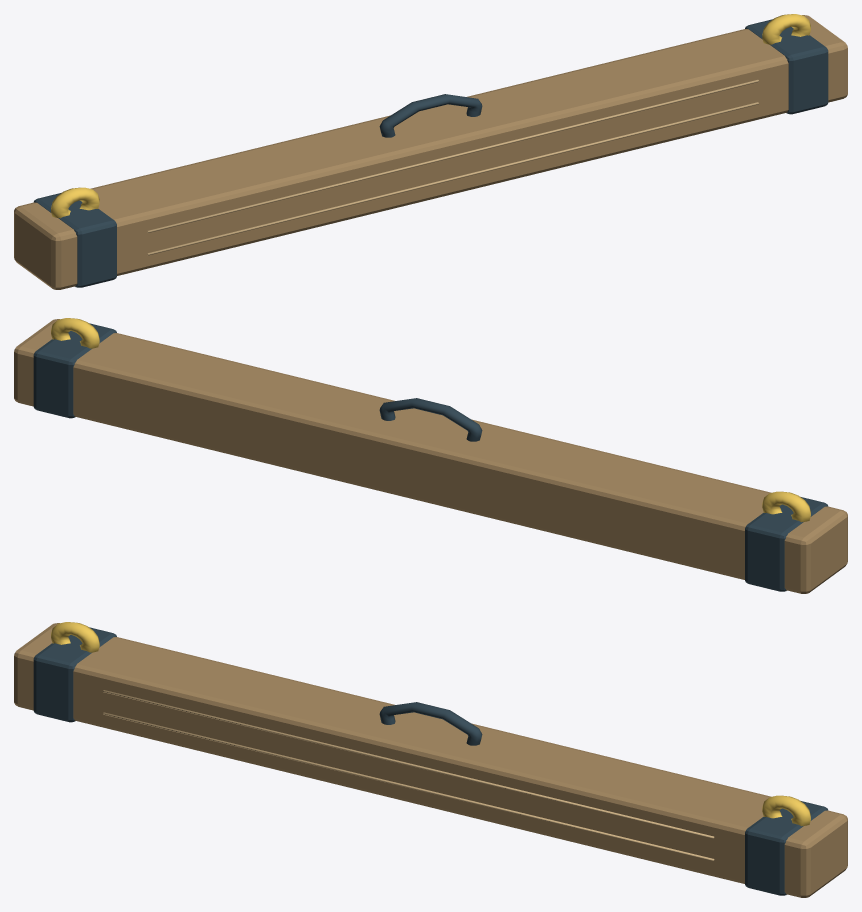
The model's file is beam.glb.
3 renders of one model, top to bottom at view 1: azimuth 30°, elevation 25°; view 2: azimuth 150°, elevation 25°; view 3: azimuth 330°, elevation 25°, orthographic.
Parts seen in each view (by area): view 1: tyaga-beam-surface; view 2: tyaga-beam-surface; view 3: tyaga-beam-surface.
Boxes of the visible parts, box(x1,y1,x2,y2) form: tyaga-beam-surface: box(14, 14, 847, 289); tyaga-beam-surface: box(14, 318, 847, 593); tyaga-beam-surface: box(14, 622, 847, 897).
Size of the model in its own units: 3 by 0.3 by 0.3.
